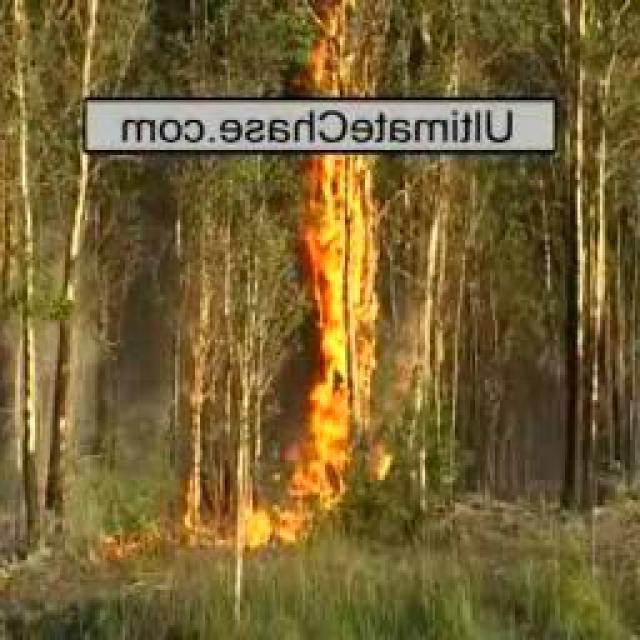Fire: (306, 159, 378, 458), (222, 465, 355, 558), (317, 0, 372, 98)
